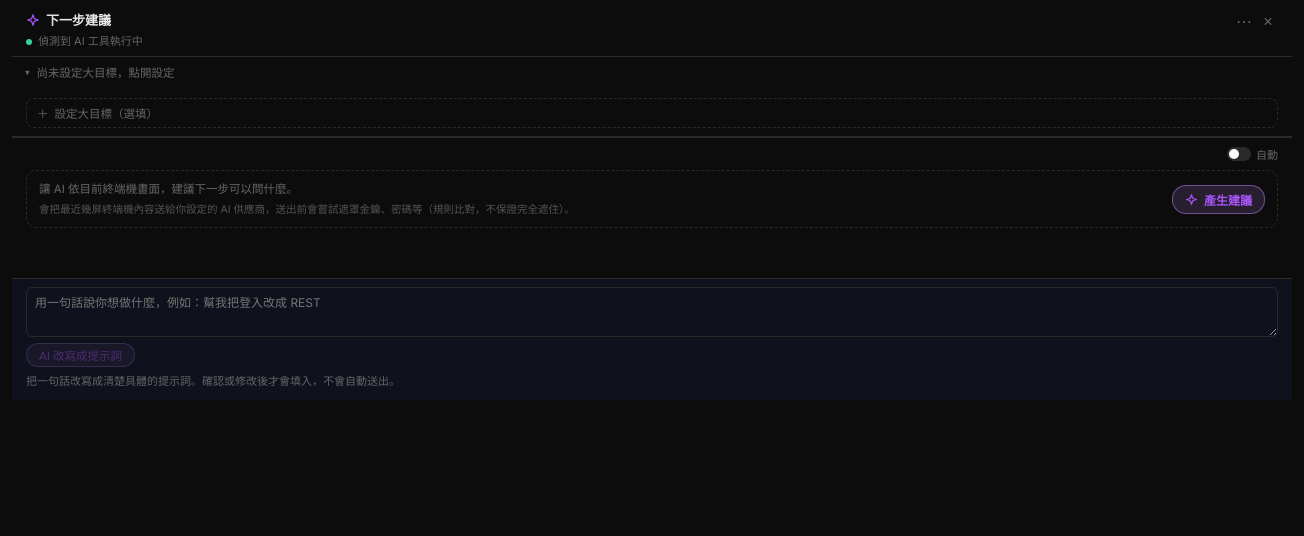
SuggestionSidebar › AI polish of the goal › shows a busy state while waiting and blocks a second request
Click the button "＋ 設定大目標（選填）".
click(106, 114)  # box 26,98 -> 1278,128
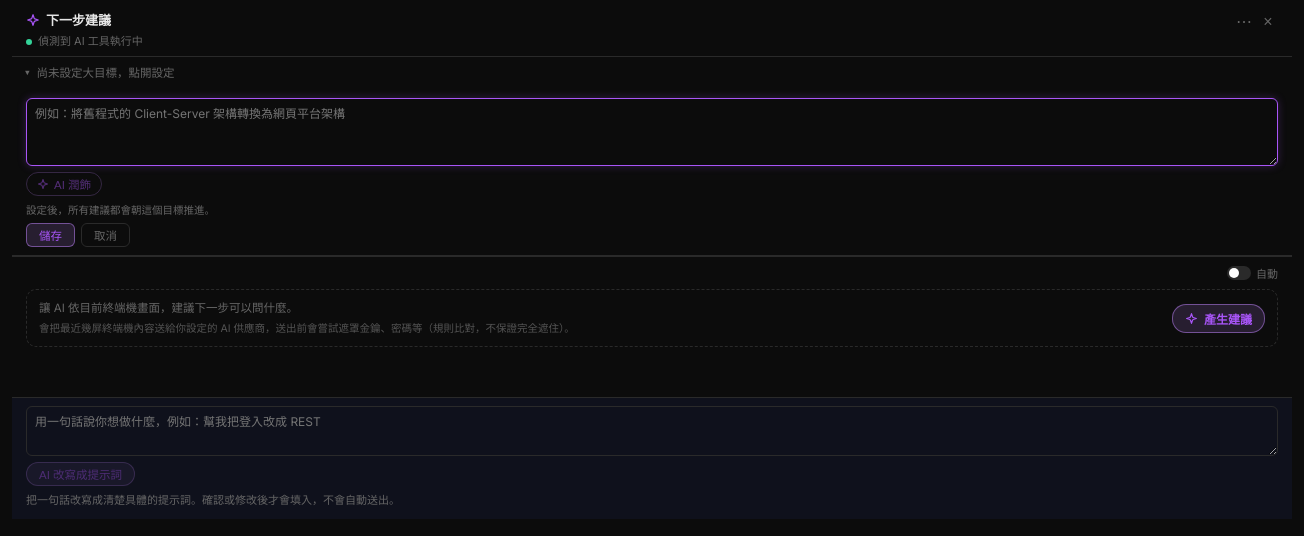
Type "轉成網頁版" into the text box named "大目標".
click(652, 132); type("轉成網頁版")  # box 26,98 -> 1278,166
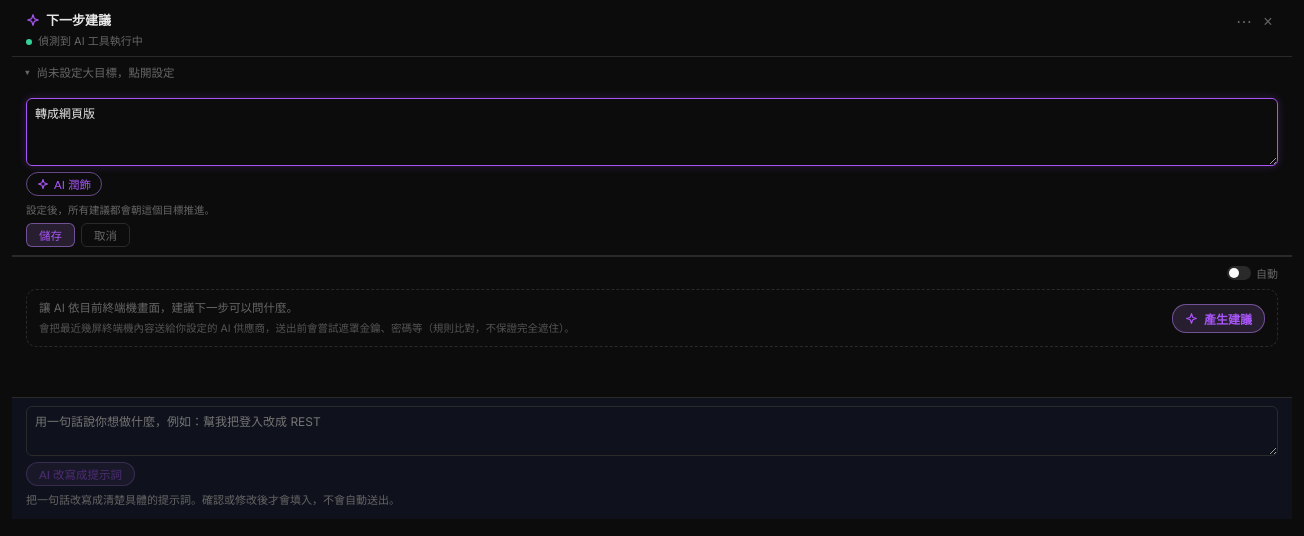
Click the button "AI 潤飾".
click(64, 184)  # box 26,172 -> 102,196
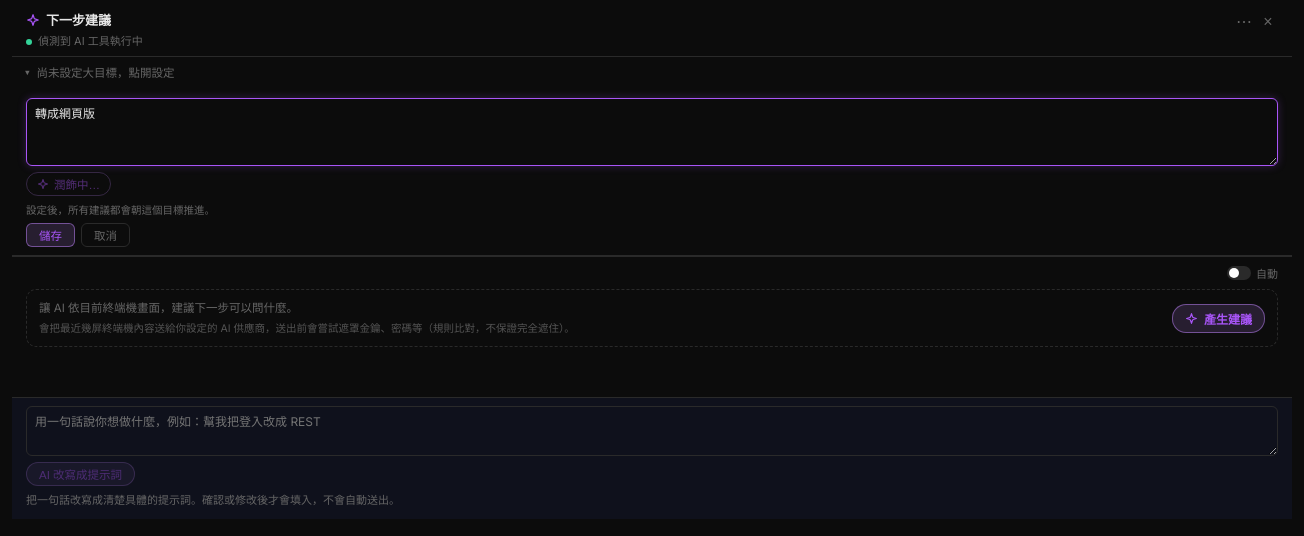
Now the button "潤飾中…" is shown, box 26,172 -> 111,196
Now the button "潤飾中…" is disabled, box 26,172 -> 111,196
